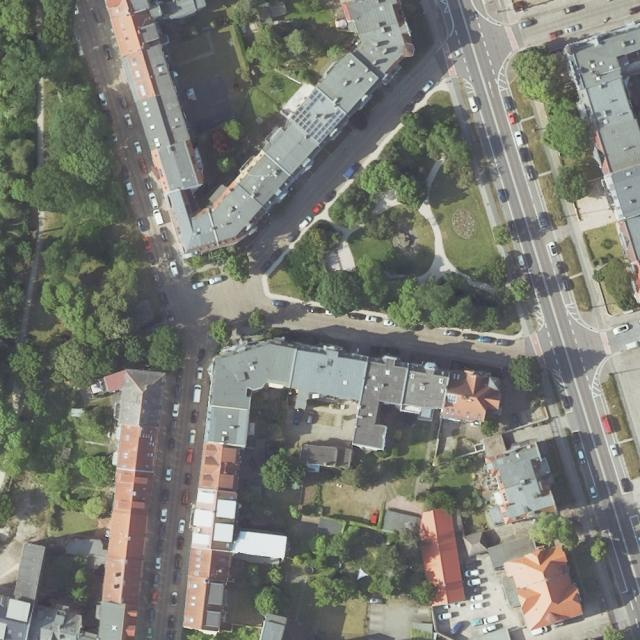PV: (290, 89, 347, 146), (446, 395, 456, 403)
